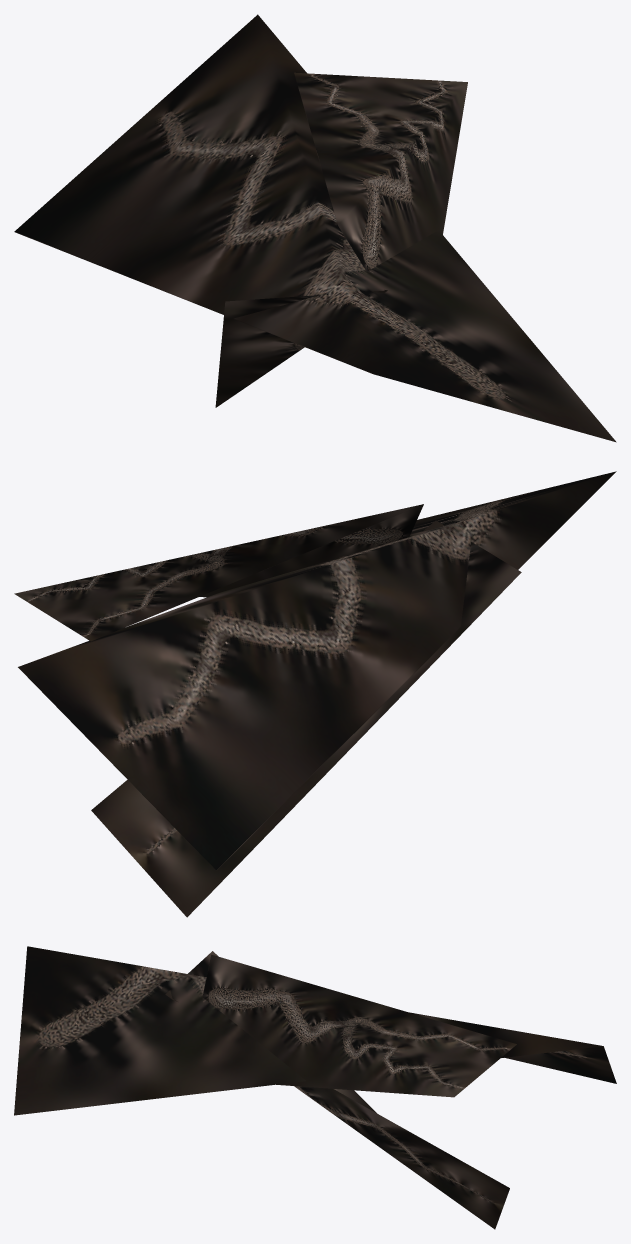
3 views of the same model, one above another, from view 1: azimuth 30°, elevation 25°; view 2: azimuth 150°, elevation 25°; view 3: azimuth 270°, elevation 25° (orthographic). The views are drawn at different scales.
Parts seen in each view (by area): view 1: WRoot_02; view 2: WRoot_02; view 3: WRoot_02.
Part boxes in pixels (x1=…): WRoot_02: x1=14, y1=14, x2=616, y2=442; WRoot_02: x1=14, y1=471, x2=616, y2=917; WRoot_02: x1=14, y1=946, x2=616, y2=1229.
Size of the model in its own units: 2.1 by 1.69 by 3.7.
